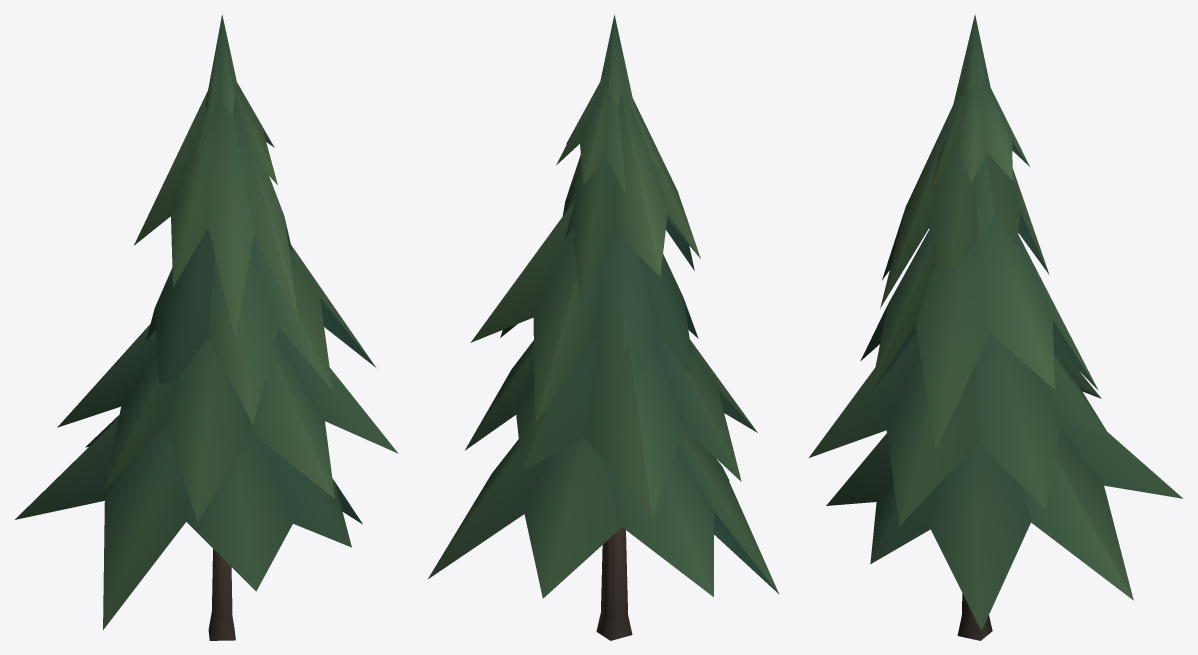
The model's file is pine_mid_lod1.glb.
3 views of the same model, side by side, from view 1: azimuth 30°, elevation 25°; view 2: azimuth 150°, elevation 25°; view 3: azimuth 270°, elevation 25° (orthographic).
Parts seen in each view (by area): view 1: pine_mid_lod1; view 2: pine_mid_lod1; view 3: pine_mid_lod1.
Part boxes in pixels (left/top/right/bottom): pine_mid_lod1: left=15, top=14, right=398, bottom=640; pine_mid_lod1: left=428, top=14, right=778, bottom=640; pine_mid_lod1: left=809, top=14, right=1182, bottom=640.
Bounding box in the file's own units: 5.53 × 11 × 6.04.
